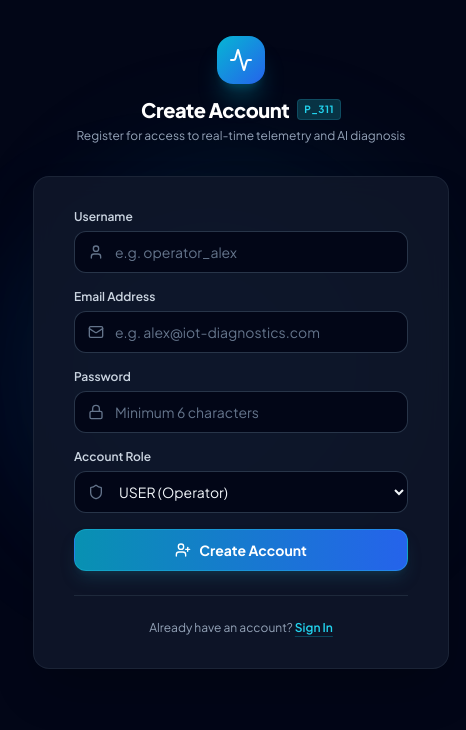
it: Frontend Authentication Suite (P19) › Register Page › displays error on duplicate username/email conflict
Step 1. Type "duplicate" into the field labelled "Username" → coordinates (241, 252), box [74,230,408,272]
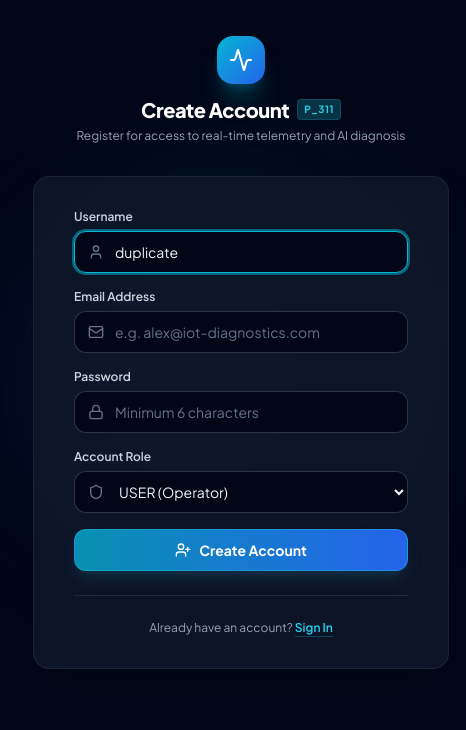
Step 2. Type "dup@iot.com" into the field labelled "Email Address" → coordinates (241, 332), box [74,310,408,352]
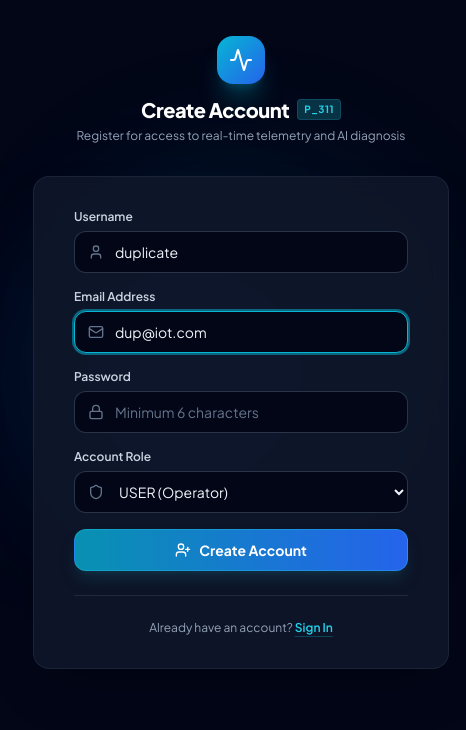
Step 3. Type "validpass123" into the password field labelled "Password" → coordinates (241, 412), box [74,390,408,432]
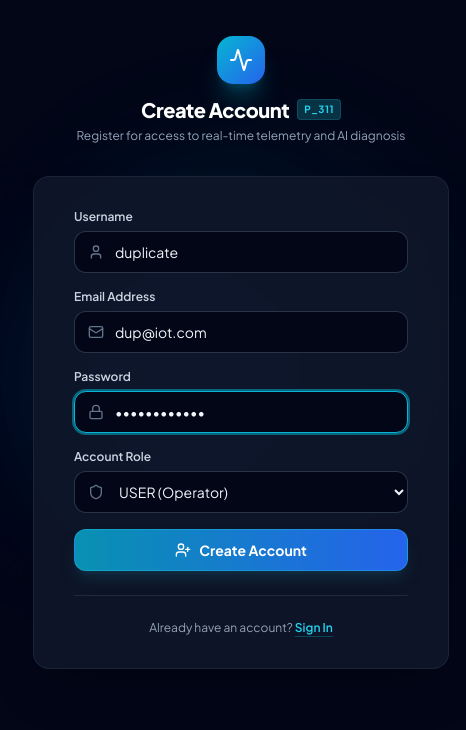
Step 4. Click the button "Create Account" → coordinates (241, 550), box [74,528,408,570]
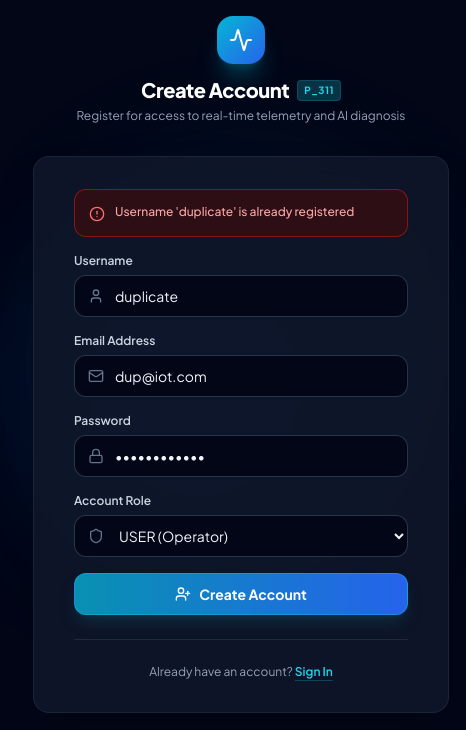
Expected: the text "Username 'duplicate' is already registered" is shown, [115,204,354,220]
